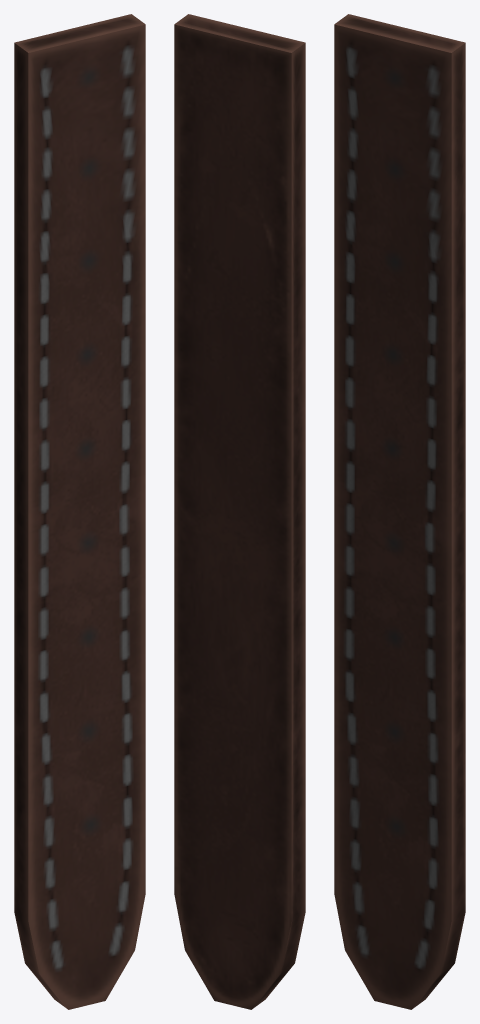
The model's file is StrapEnd_Flat.fbx.
3 renders of one model, left to right at view 1: azimuth 30°, elevation 25°; view 2: azimuth 150°, elevation 25°; view 3: azimuth 330°, elevation 25°, orthographic.
Visible parts, largest first — view 1: StrapEnd_Flat_LOD0; view 2: StrapEnd_Flat_LOD0; view 3: StrapEnd_Flat_LOD0.
Part boxes in pixels (x1=…): StrapEnd_Flat_LOD0: x1=14, y1=14, x2=145, y2=1009; StrapEnd_Flat_LOD0: x1=174, y1=14, x2=305, y2=1009; StrapEnd_Flat_LOD0: x1=334, y1=14, x2=465, y2=1009.
Size of what is drawn, in the model's own units: 14.01 by 110 by 2.95.
